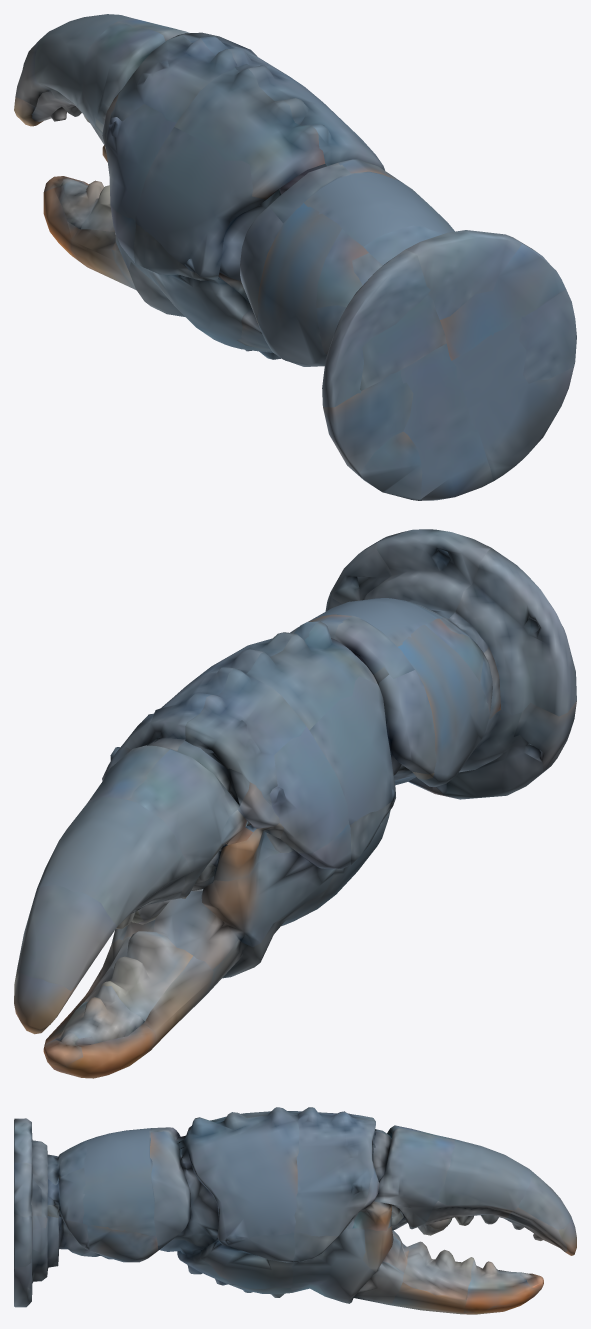
The model's file is claw_small.glb.
3 views of the same model, one above another, from view 1: azimuth 30°, elevation 25°; view 2: azimuth 150°, elevation 25°; view 3: azimuth 270°, elevation 25° (orthographic). The views are drawn at different scales.
Visible parts, largest first — view 1: tripo_node_9c9fc0a9-154a-491e-9bab-77d109c75334; view 2: tripo_node_9c9fc0a9-154a-491e-9bab-77d109c75334; view 3: tripo_node_9c9fc0a9-154a-491e-9bab-77d109c75334.
Boxes of the visible parts, x1=… form: tripo_node_9c9fc0a9-154a-491e-9bab-77d109c75334: x1=14, y1=14, x2=576, y2=500; tripo_node_9c9fc0a9-154a-491e-9bab-77d109c75334: x1=14, y1=529, x2=576, y2=1078; tripo_node_9c9fc0a9-154a-491e-9bab-77d109c75334: x1=14, y1=1107, x2=576, y2=1314.
Bounding box in the file's own units: 0.3348 × 0.3941 × 0.9997.
Materials: 1 (1 with a texture image).
